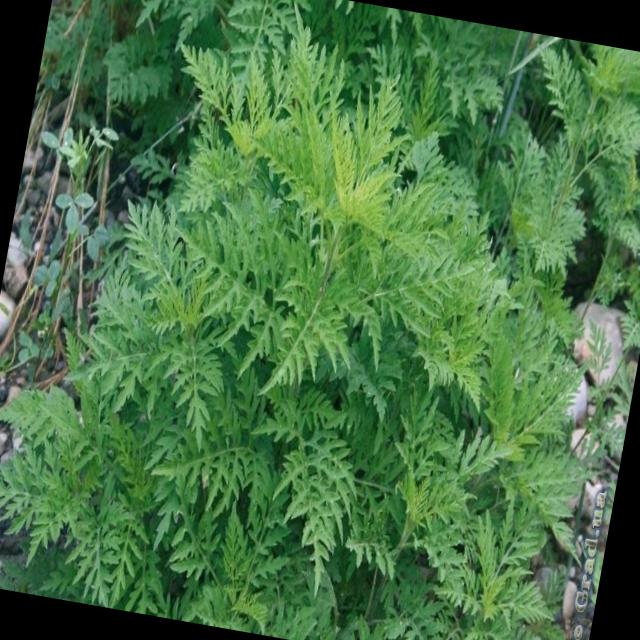ambrosia: (96, 57, 545, 640), (0, 358, 119, 563), (461, 516, 551, 640)
